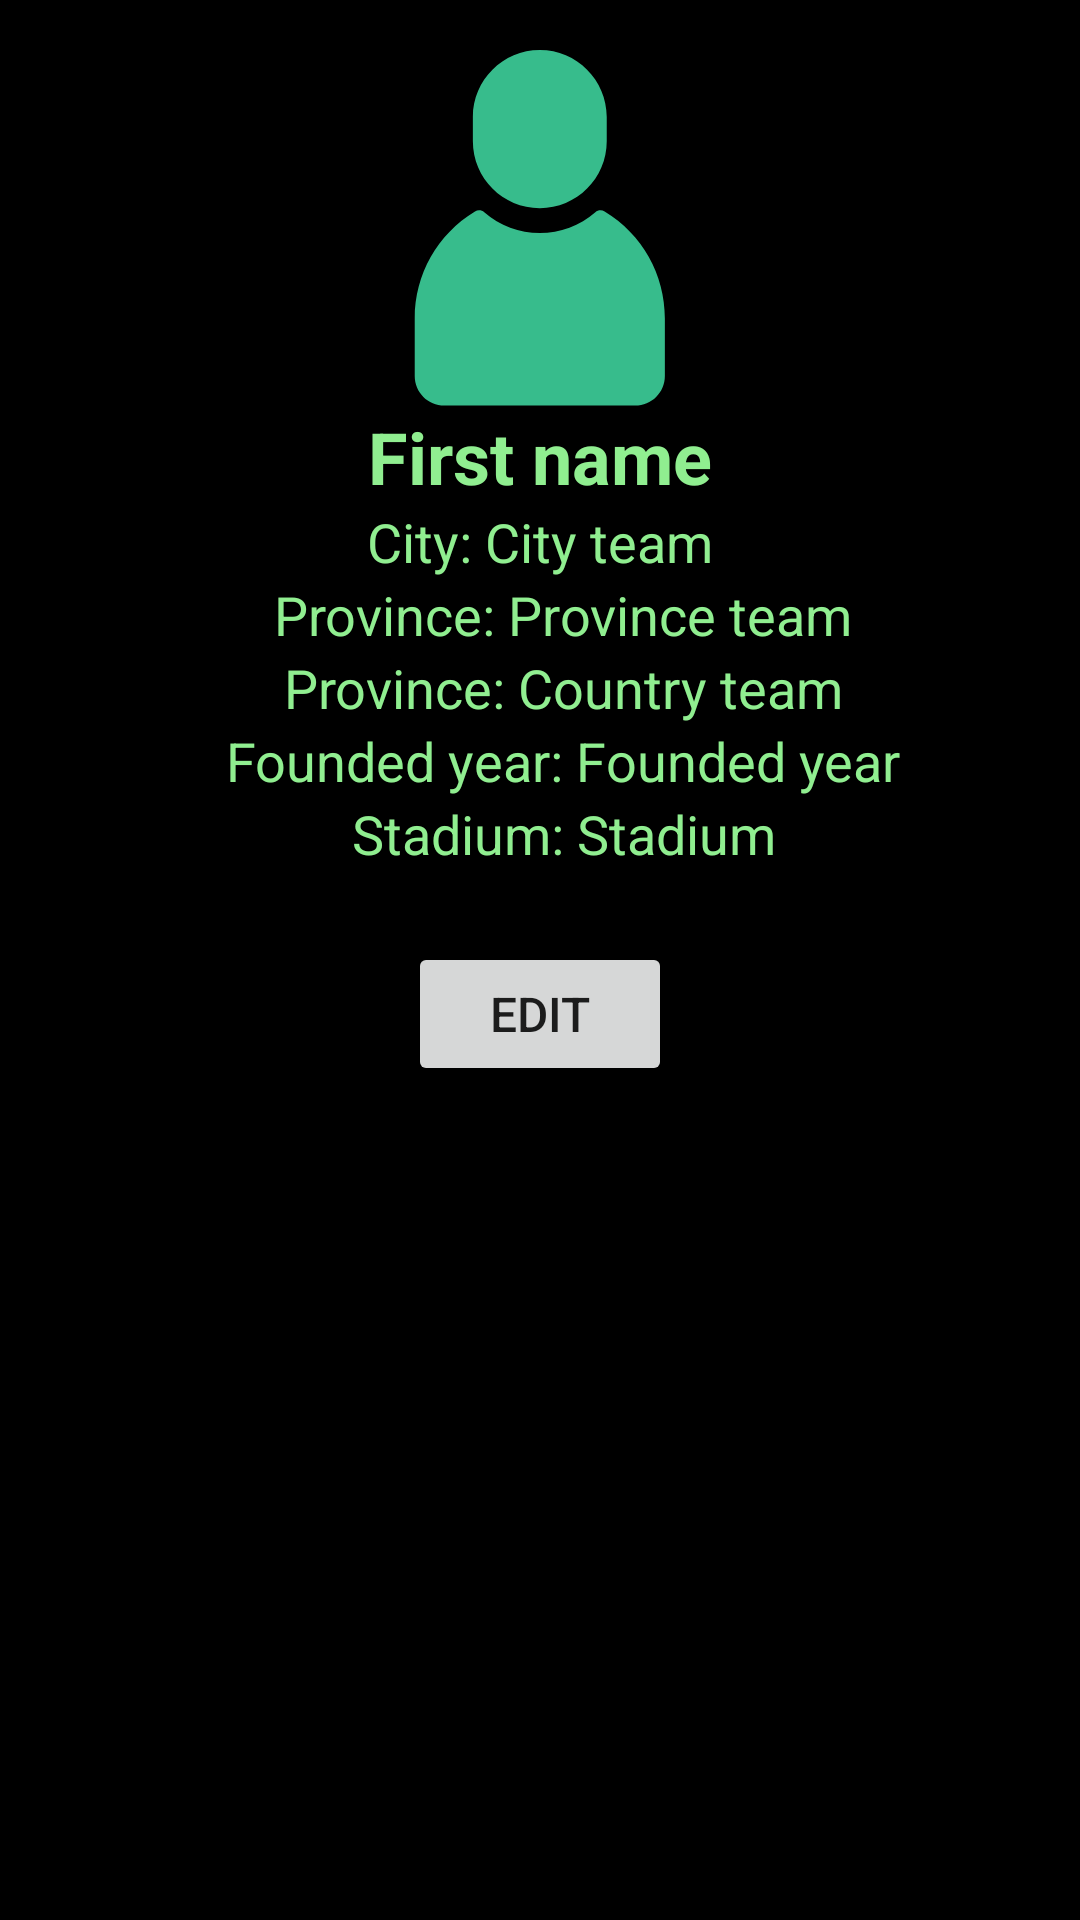

Where to tap for icons on this 1080w x 1920h app screen, as point (x, y):
Avatar: point (539, 228)
